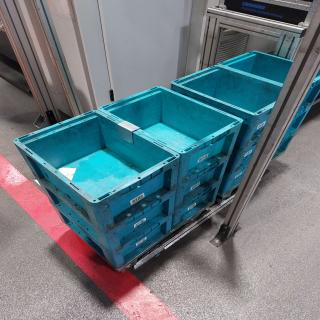BoxB4: (18, 110, 181, 229), (100, 86, 244, 169), (174, 66, 287, 138), (42, 184, 176, 242), (218, 50, 319, 113), (54, 218, 177, 267), (161, 188, 235, 224), (158, 162, 228, 196)
